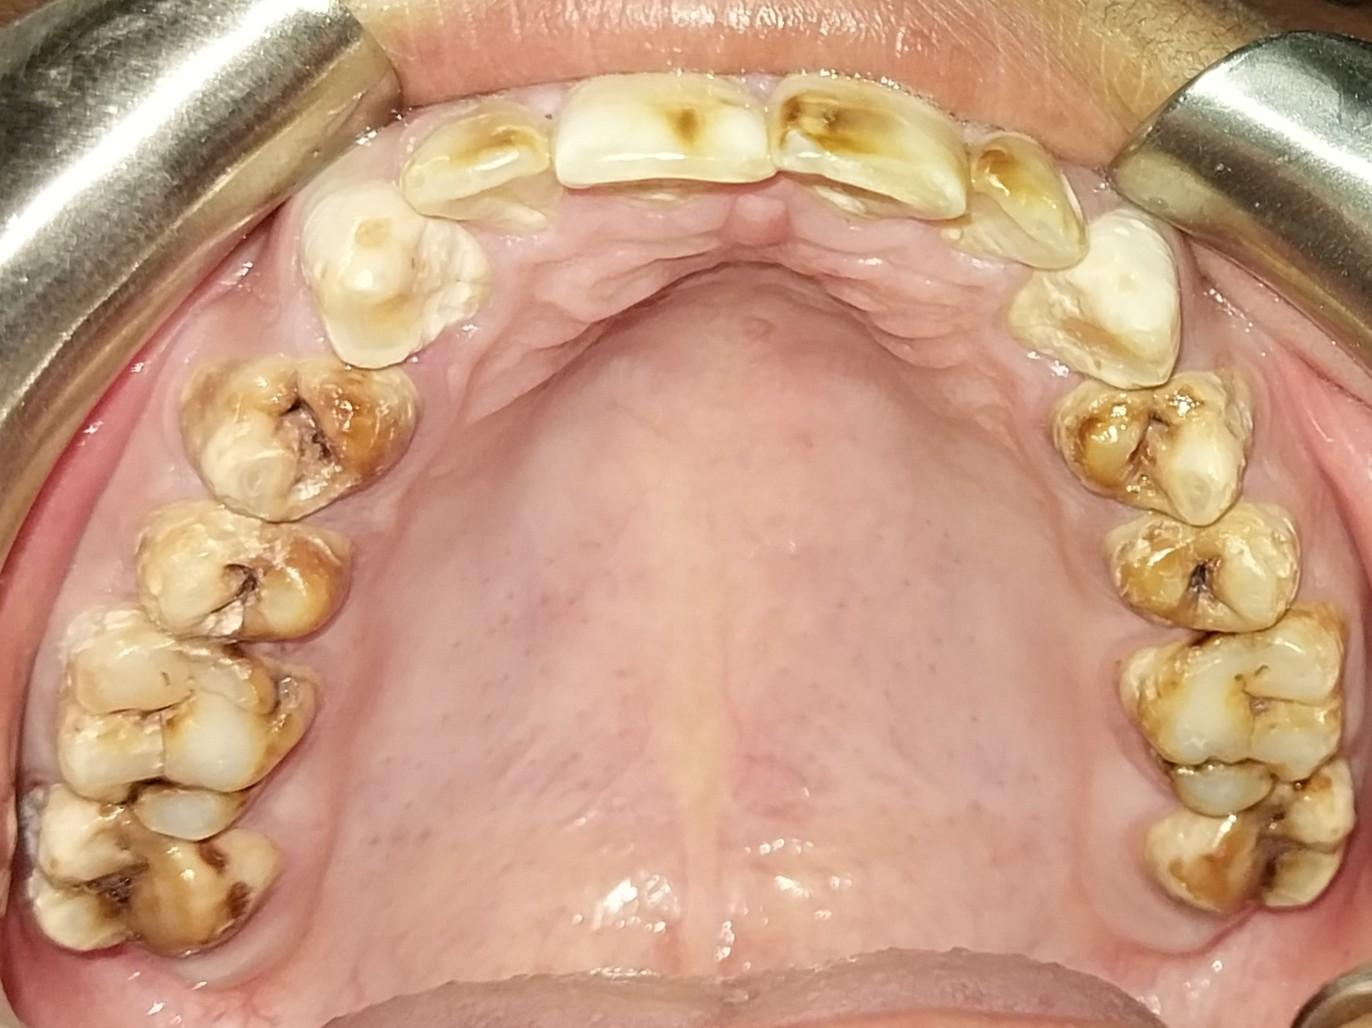D: (51, 622, 313, 842), (1124, 608, 1344, 822), (22, 788, 275, 951), (181, 358, 420, 521), (130, 504, 354, 645), (1049, 376, 1248, 528), (1147, 784, 1355, 912), (1111, 513, 1300, 631)
